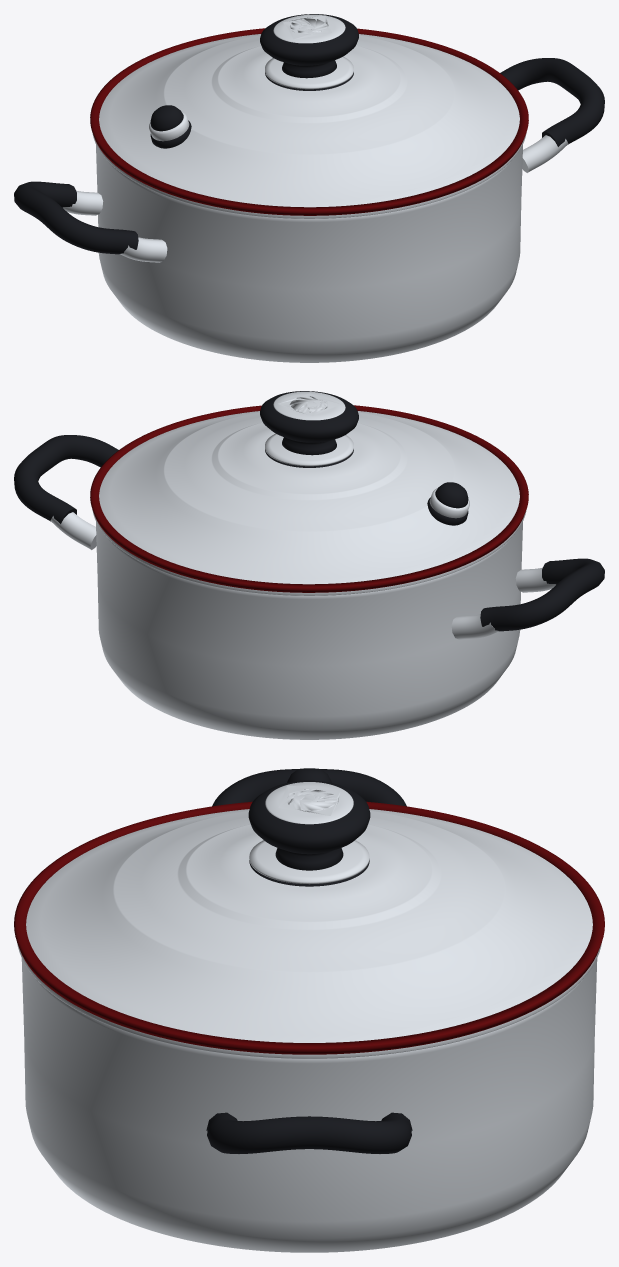
The model's file is olla-4-cuartos.glb.
The picture shows the model from 3 angles, top to bottom: view 1: azimuth 30°, elevation 25°; view 2: azimuth 150°, elevation 25°; view 3: azimuth 270°, elevation 25°; orthographic projection. The views are drawn at different scales.
Visible parts, largest first — view 1: Cuerpo con interior, Tapa de acero con aros, Aro rojo de la tapa, Asa negra -1, Asa negra 1, NOVEL · Pomo cerrado redondeado, NOVEL · Base cromada del pomo, NOVEL · Placa superior del pomo, Soporte metálico.002, Soporte metálico, NOVEL · Emblema original en relieve bajo, Soporte metálico.001 (+2 smaller); view 2: Cuerpo con interior, Tapa de acero con aros, Aro rojo de la tapa, Asa negra -1, Asa negra 1, NOVEL · Pomo cerrado redondeado, NOVEL · Base cromada del pomo, NOVEL · Placa superior del pomo, Soporte metálico.003, Soporte metálico.001, NOVEL · Emblema original en relieve bajo, Soporte metálico (+2 smaller); view 3: Cuerpo con interior, Tapa de acero con aros, Aro rojo de la tapa, Asa negra 1, NOVEL · Pomo cerrado redondeado, Asa negra -1, NOVEL · Base cromada del pomo, NOVEL · Placa superior del pomo, NOVEL · Emblema original en relieve bajo.
Boxes of the visible parts, bbox=[...] form: Cuerpo con interior: bbox=[96, 145, 522, 362]; Tapa de acero con aros: bbox=[92, 34, 526, 218]; Aro rojo de la tapa: bbox=[90, 28, 528, 215]; Asa negra -1: bbox=[14, 181, 138, 254]; Asa negra 1: bbox=[500, 58, 604, 146]; NOVEL · Pomo cerrado redondeado: bbox=[260, 14, 358, 78]; NOVEL · Base cromada del pomo: bbox=[265, 56, 353, 89]; NOVEL · Placa superior del pomo: bbox=[273, 14, 345, 43]; Soporte metálico.002: bbox=[522, 135, 568, 172]; Soporte metálico: bbox=[119, 237, 167, 262]; NOVEL · Emblema original en relieve bajo: bbox=[283, 15, 331, 39]; Soporte metálico.001: bbox=[63, 190, 103, 215]; Cuerpo con interior: bbox=[96, 522, 522, 739]; Tapa de acero con aros: bbox=[92, 411, 526, 595]; Aro rojo de la tapa: bbox=[90, 405, 528, 592]; Asa negra -1: bbox=[480, 558, 604, 631]; Asa negra 1: bbox=[14, 435, 118, 523]; NOVEL · Pomo cerrado redondeado: bbox=[260, 391, 358, 455]; NOVEL · Base cromada del pomo: bbox=[265, 433, 353, 466]; NOVEL · Placa superior del pomo: bbox=[273, 391, 345, 420]; Soporte metálico.003: bbox=[50, 512, 96, 549]; Soporte metálico.001: bbox=[451, 614, 499, 639]; NOVEL · Emblema original en relieve bajo: bbox=[278, 393, 341, 416]; Soporte metálico: bbox=[515, 567, 555, 592]; Cuerpo con interior: bbox=[21, 958, 597, 1252]; Tapa de acero con aros: bbox=[17, 809, 601, 1058]; Aro rojo de la tapa: bbox=[14, 801, 604, 1054]; Asa negra 1: bbox=[206, 1112, 412, 1153]; NOVEL · Pomo cerrado redondeado: bbox=[248, 780, 370, 870]; Asa negra -1: bbox=[212, 769, 406, 806]; NOVEL · Base cromada del pomo: bbox=[249, 840, 369, 884]; NOVEL · Placa superior del pomo: bbox=[265, 782, 353, 824]; NOVEL · Emblema original en relieve bajo: bbox=[278, 785, 340, 815].
Size of the model in its own units: 0.3561 by 0.1602 by 0.246.
